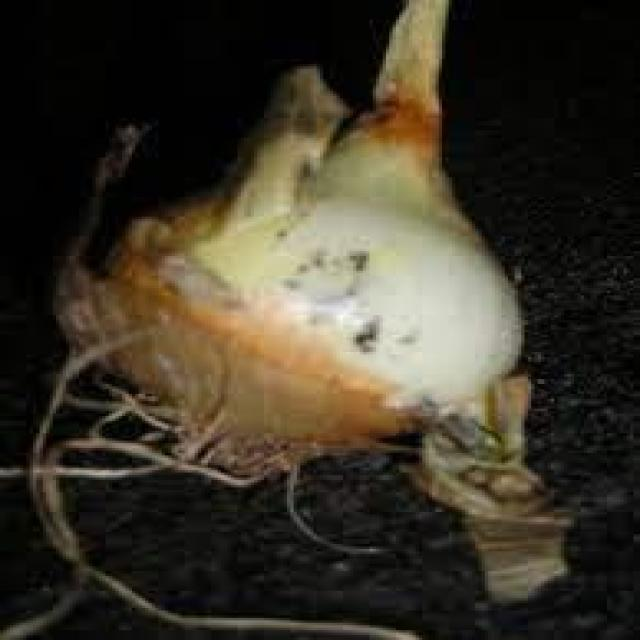Onion: (56, 98, 544, 490), (412, 377, 568, 600), (275, 0, 467, 118)
